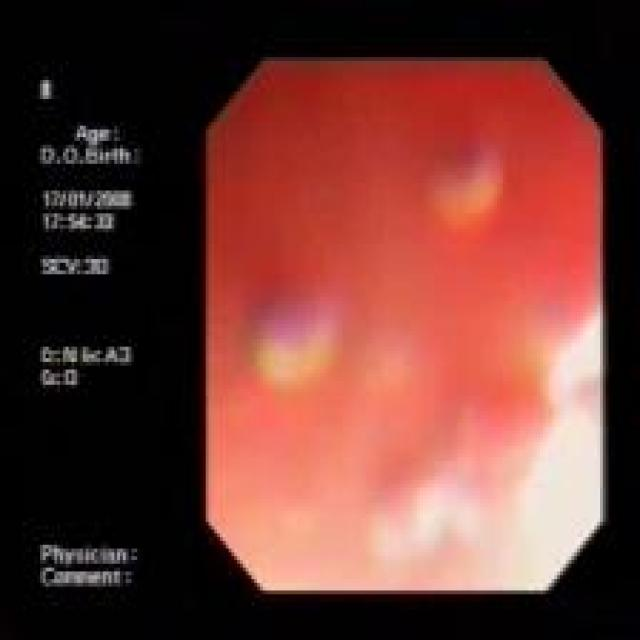color misalignment: (207, 58, 602, 590), (35, 73, 144, 594), (239, 284, 357, 401), (418, 136, 511, 221)
saturation: (464, 262, 602, 590), (228, 479, 463, 589)
